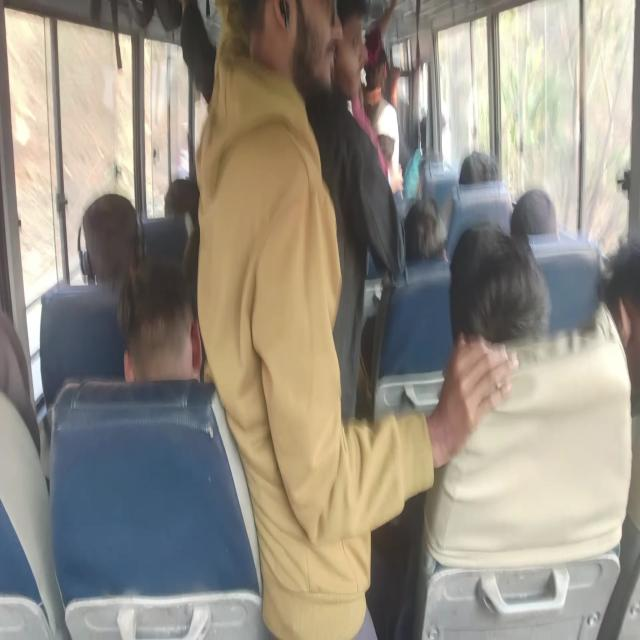person: (435, 216, 538, 386), (221, 0, 348, 136), (118, 252, 206, 423), (580, 242, 640, 423), (0, 318, 41, 488), (84, 192, 152, 276), (320, 0, 362, 121), (393, 193, 449, 268), (421, 103, 471, 181), (514, 183, 566, 247), (353, 8, 389, 92), (449, 150, 496, 182), (164, 174, 192, 218)
